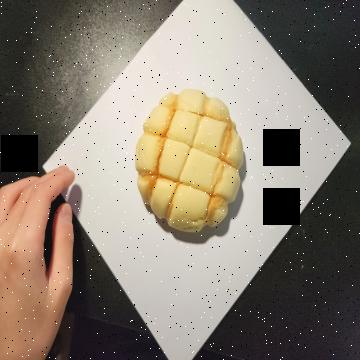melon_bread: (135, 89, 245, 232)
